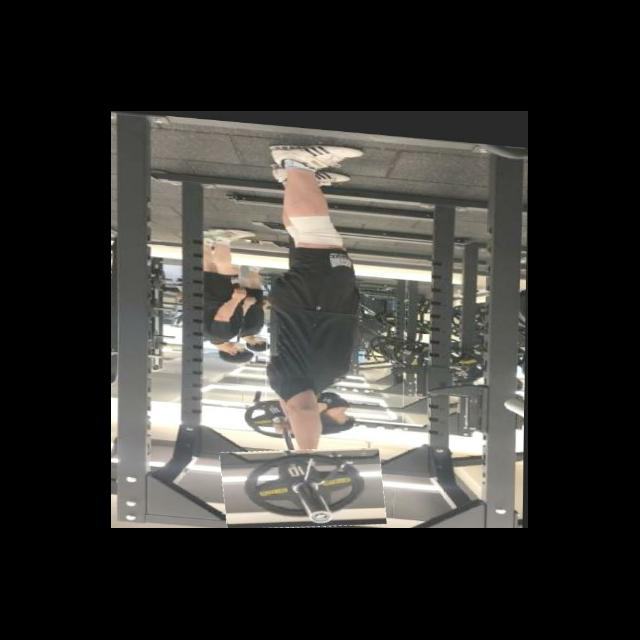barbell: (221, 436, 387, 528)
